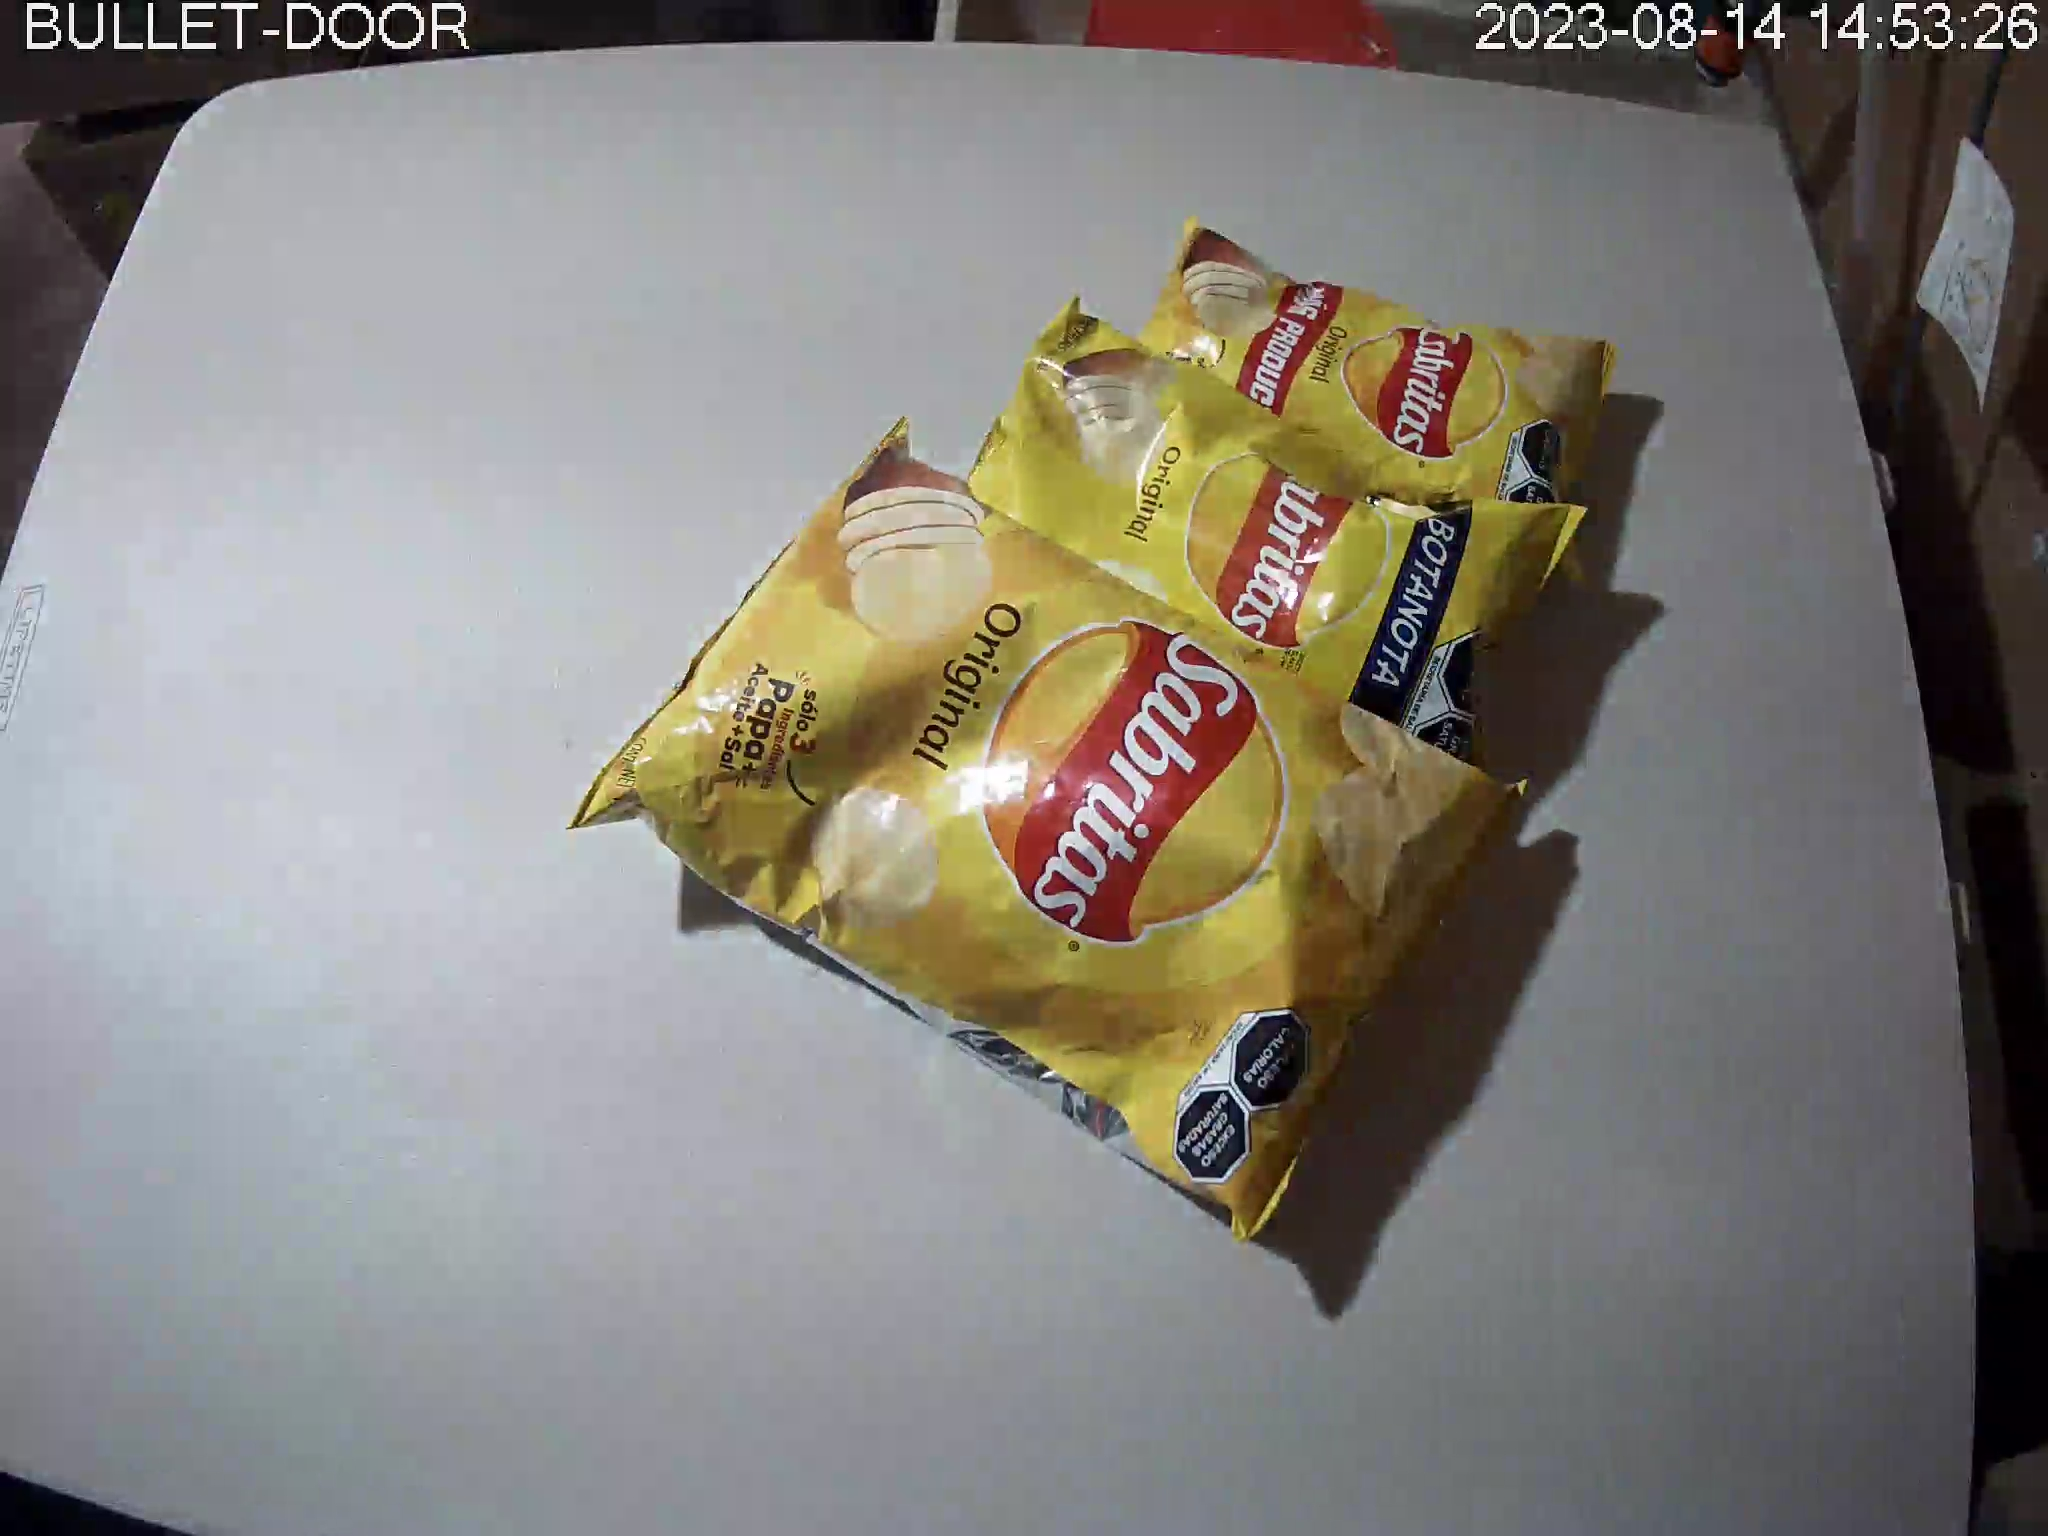Sabritas_160_F: (571, 415, 1530, 1249)
Sabritas_45_F: (1138, 226, 1616, 521)
Sabritas_64_F: (964, 297, 1592, 762)
